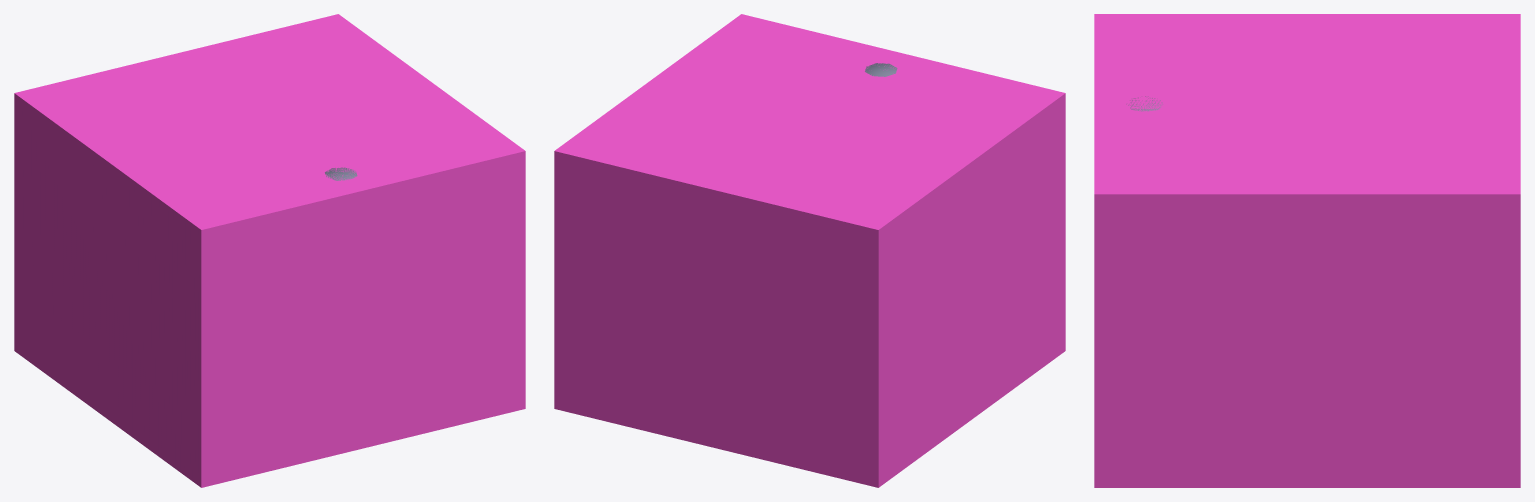
The model's file is flamethrower.glb.
3 views of the same model, side by side, from view 1: azimuth 30°, elevation 25°; view 2: azimuth 150°, elevation 25°; view 3: azimuth 270°, elevation 25° (orthographic). The views are drawn at different scales.
Visible parts, largest first — view 1: COL_BOX_BODY; view 2: COL_BOX_BODY; view 3: COL_BOX_BODY.
Part boxes in pixels (bbox=[...]): COL_BOX_BODY: bbox=[14, 14, 525, 487]; COL_BOX_BODY: bbox=[554, 14, 1065, 487]; COL_BOX_BODY: bbox=[1094, 14, 1520, 487].
Bounding box in the file's own units: 1.5 × 1.14 × 1.5.
Materials: 2 (1 with a texture image).
